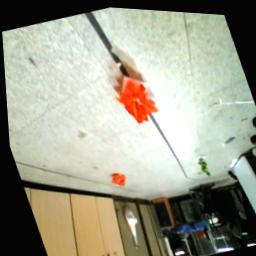herb: (195, 155, 212, 178)
wild: (109, 72, 164, 130), (107, 170, 128, 191)
